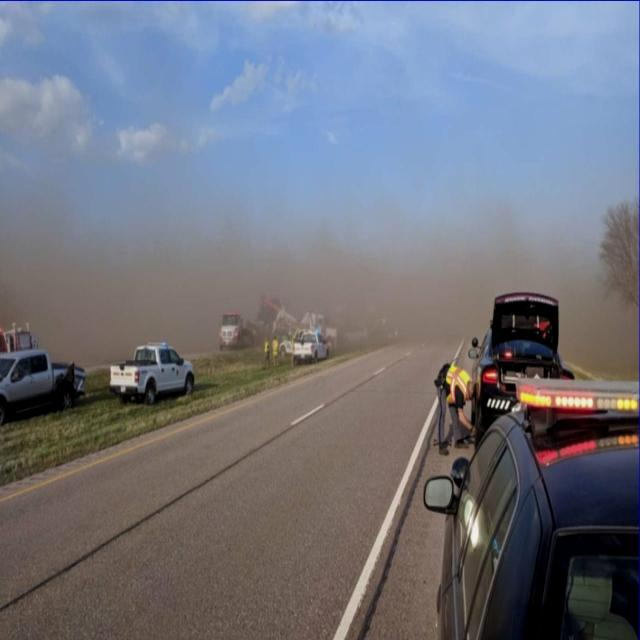Car: (428, 395, 640, 635), (469, 290, 573, 444), (108, 335, 200, 416), (1, 347, 86, 426), (220, 312, 262, 351), (292, 330, 329, 364), (342, 325, 369, 347), (275, 331, 296, 358), (385, 323, 399, 341)
